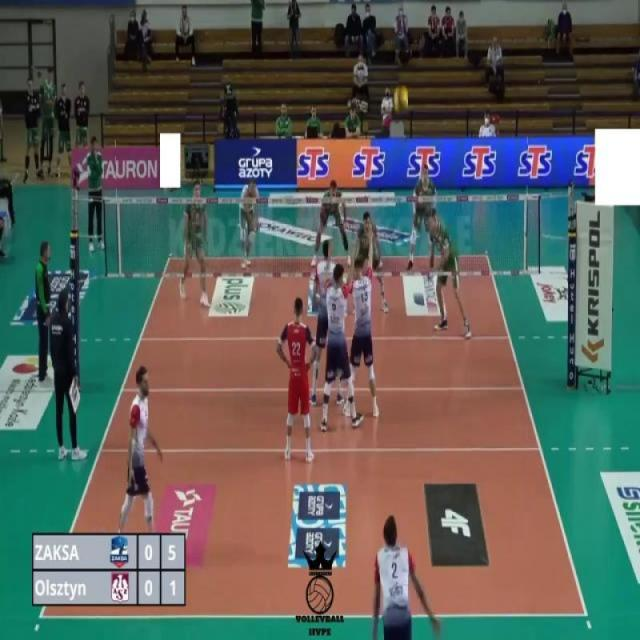volleyball: (393, 84, 409, 115)
